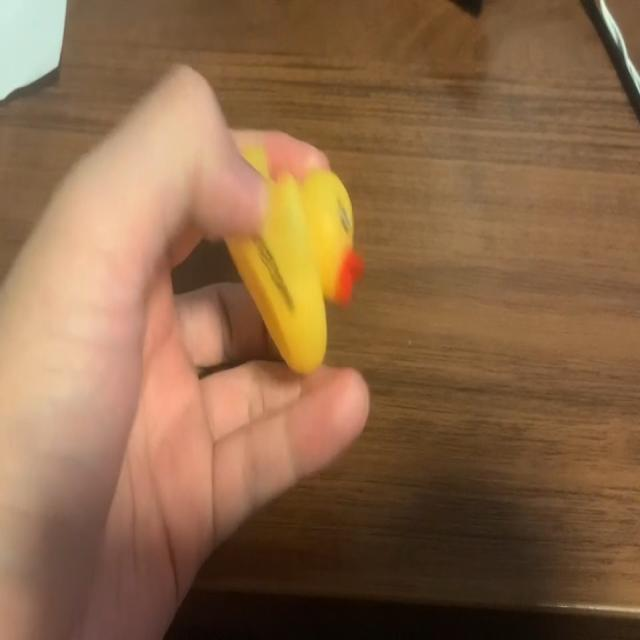rubber-duck: (226, 139, 360, 371)
